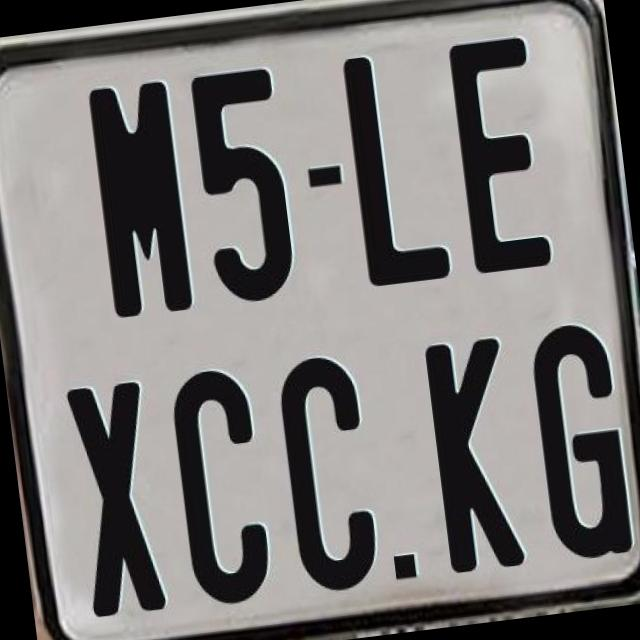5: (186, 61, 302, 305)
C: (275, 348, 390, 598), (168, 362, 278, 610)
E: (448, 30, 554, 274)
G: (528, 317, 636, 568)
K: (420, 336, 524, 578)
L: (338, 44, 452, 287)
M: (84, 76, 194, 316)
X: (64, 376, 168, 622)
